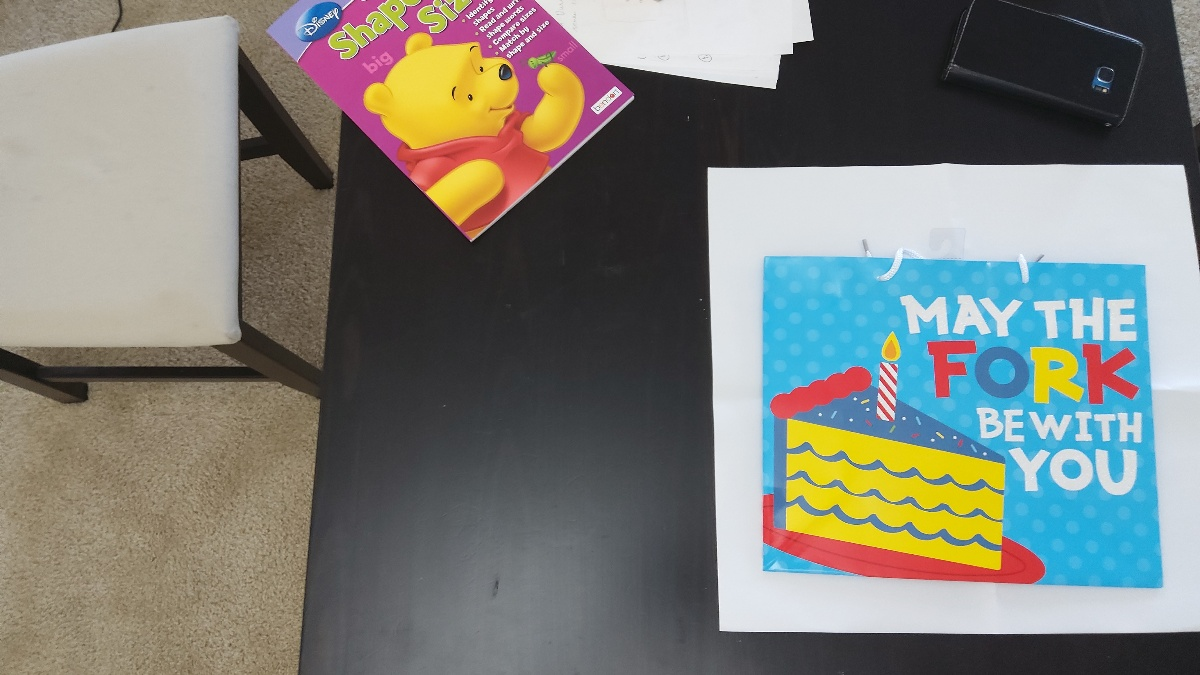paper_bag: (765, 258, 1159, 583)
